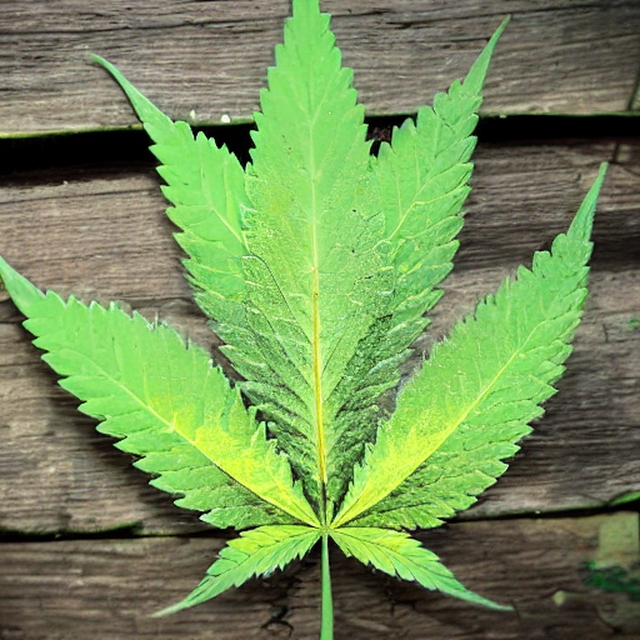Marijuana Leaf: (0, 1, 612, 637)
